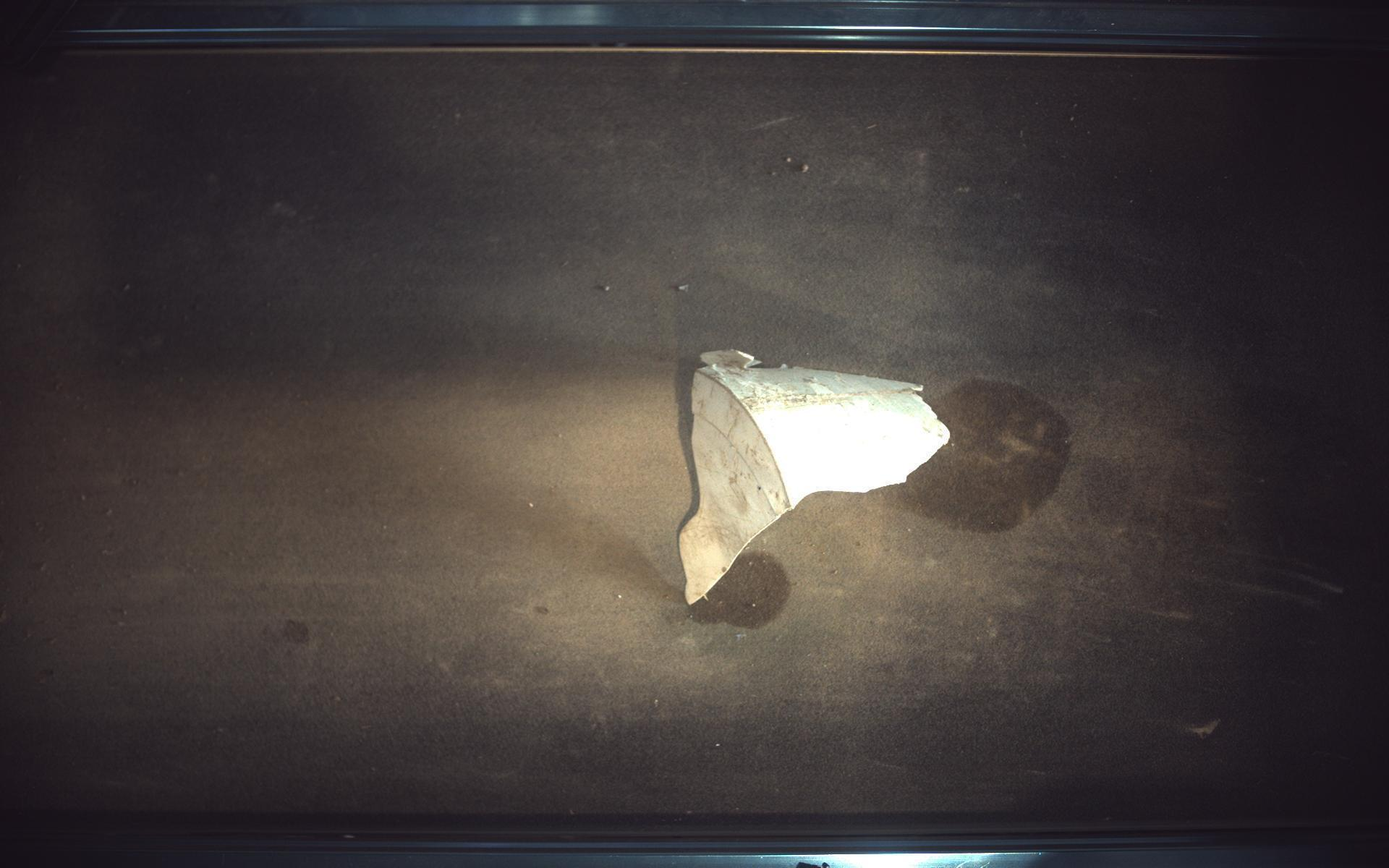plastic: (680, 349, 951, 605)
